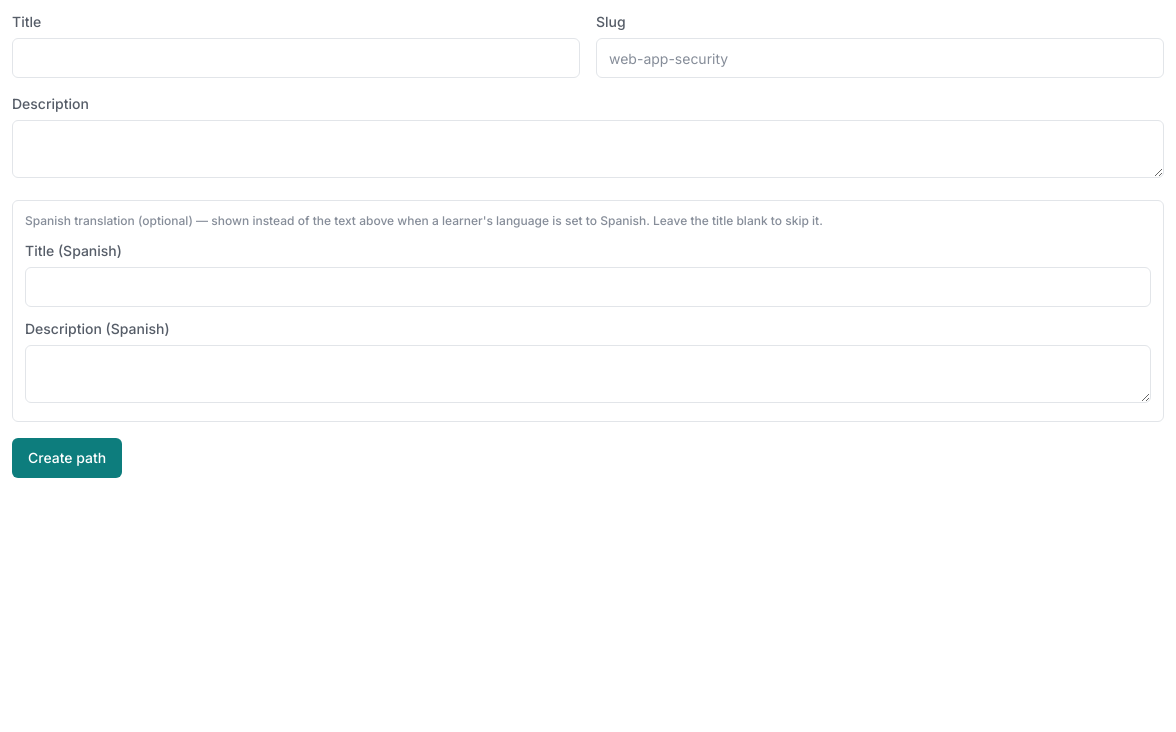
Test: CreatePathForm › renders the slug-collision error the action returns
In the field labelled "Title": (296, 58) [12,38,580,78], type "Dup"
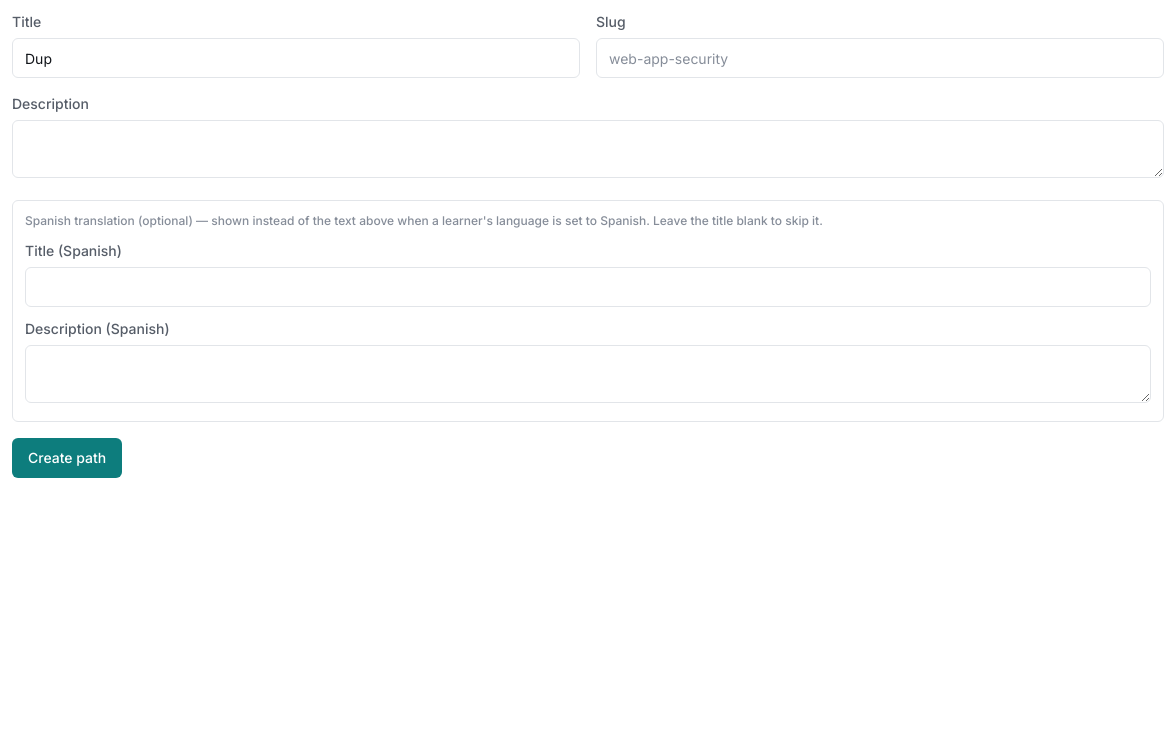
In the field labelled "Slug": (880, 58) [596,38,1164,78], type "dup"
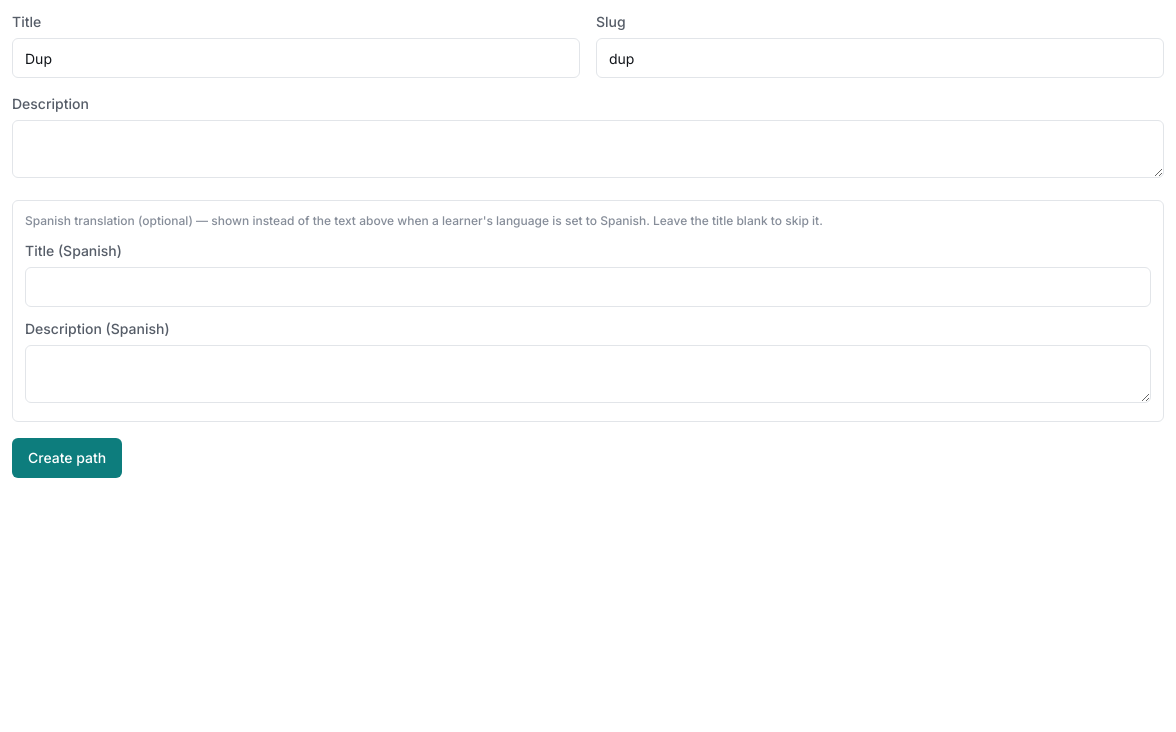
Click the button "Create path": (67, 458) [12,438,122,478]
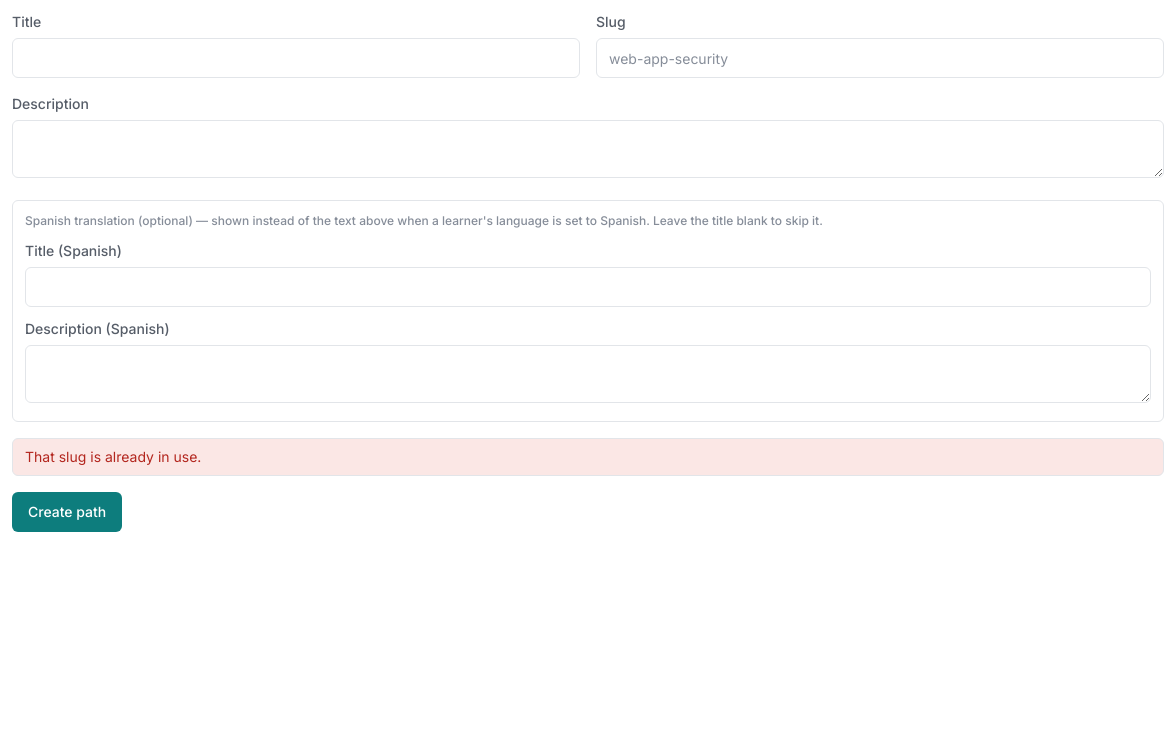
Check: the message reads "That slug is already in use.", box [25,448,201,465]
